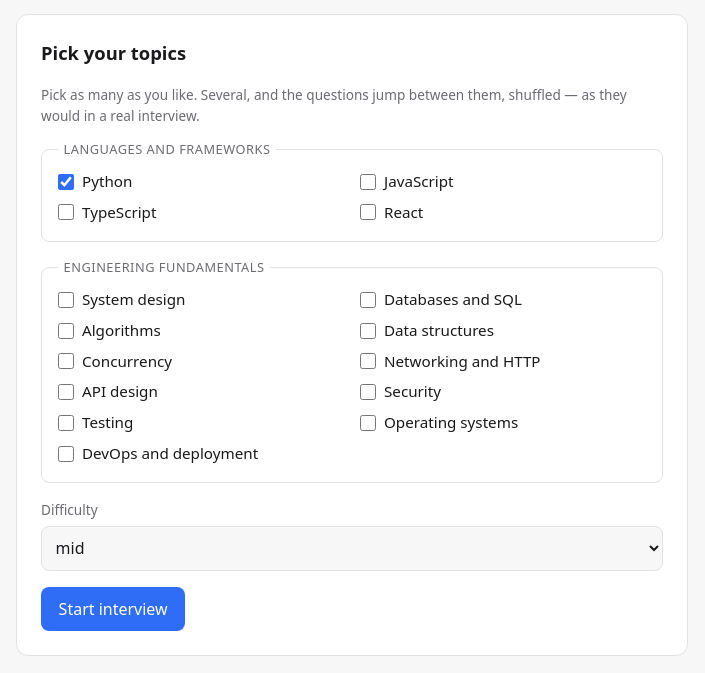
resuming › remembers the session id when an interview starts
(page scrolled)
What coordinates should you click on to do the following:
click the button "Start interview"
I would click on:
 (113, 609)
Its box is [41,587,185,631].
(page scrolled)
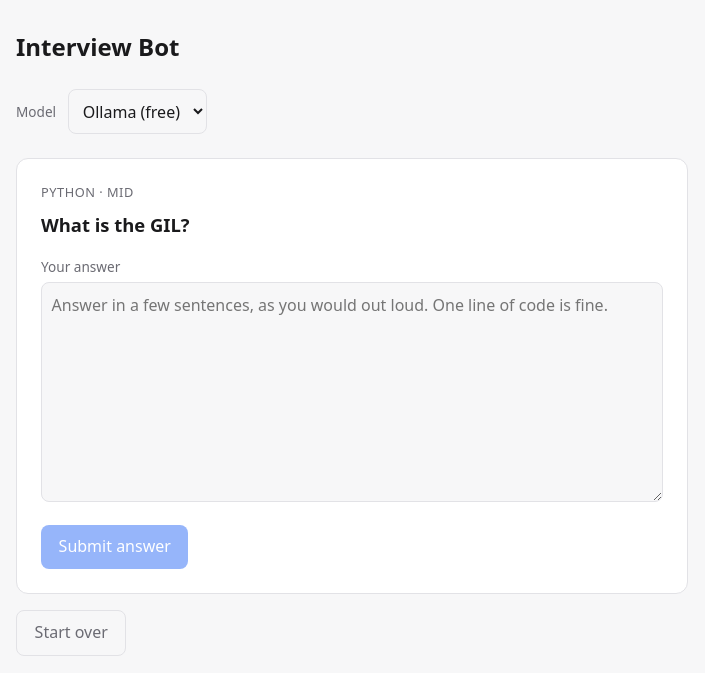
Now the heading "What is the GIL?" is shown, box [41,212,190,237]
